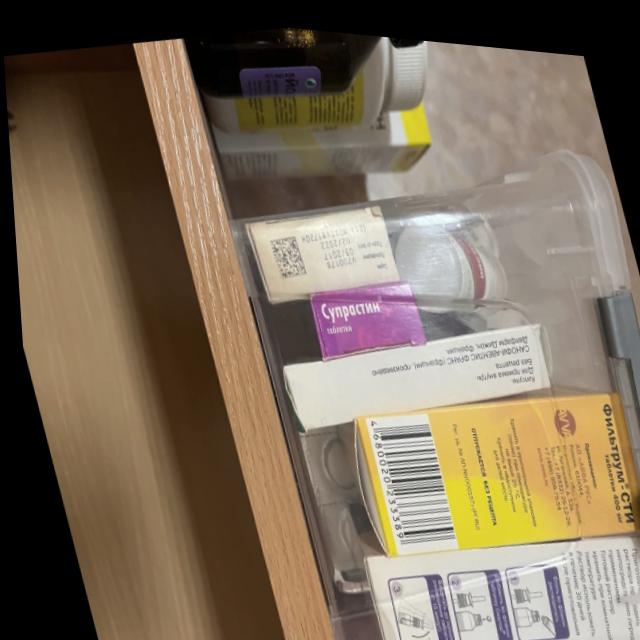datamatrix: (264, 228, 306, 280)
